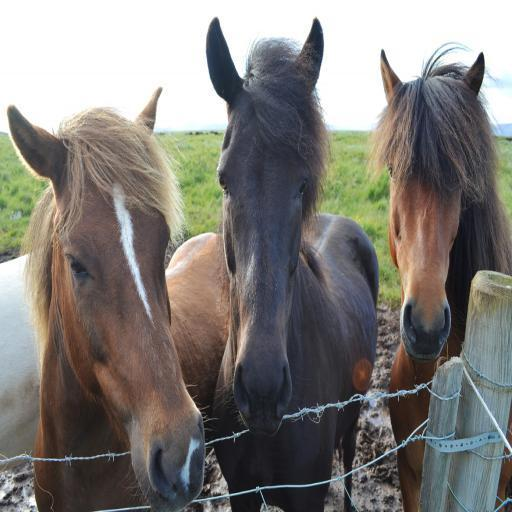horse: (8, 106, 234, 512), (206, 20, 380, 512), (361, 42, 512, 512)
